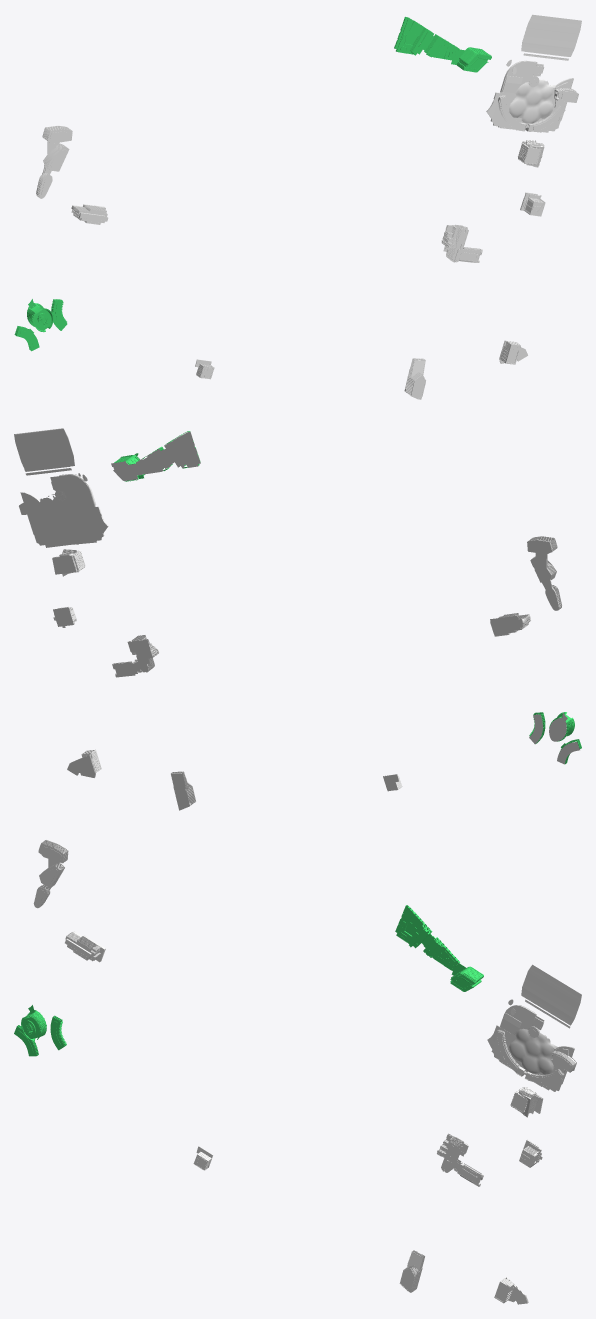
The picture shows the model from 3 angles, top to bottom: view 1: azimuth 30°, elevation 25°; view 2: azimuth 150°, elevation 25°; view 3: azimuth 330°, elevation 25°; orthographic projection.
Size of the model in its own units: 7859 by 5055 by 311.
